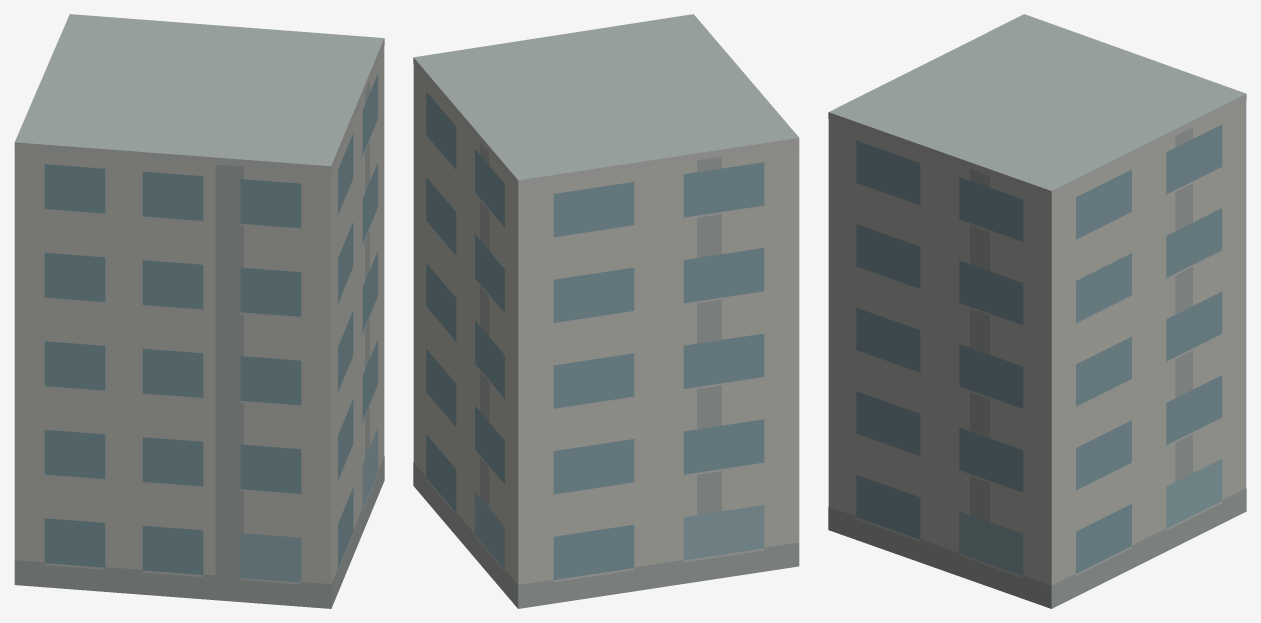
Rendered from survey-upis-32569575.glb.
3 views of the same model, side by side, from view 1: azimuth 30°, elevation 25°; view 2: azimuth 150°, elevation 25°; view 3: azimuth 270°, elevation 25° (orthographic). The views are drawn at different scales.
Visible parts, largest first — view 1: survey-upis-32569575.tmp; view 2: survey-upis-32569575.tmp; view 3: survey-upis-32569575.tmp.
Part boxes in pixels (left/top/right/bottom): survey-upis-32569575.tmp: left=14, top=14, right=384, bottom=608; survey-upis-32569575.tmp: left=413, top=14, right=799, bottom=608; survey-upis-32569575.tmp: left=828, top=14, right=1246, bottom=608.
Bounding box in the file's own units: 13.41 × 14.75 × 13.38.
